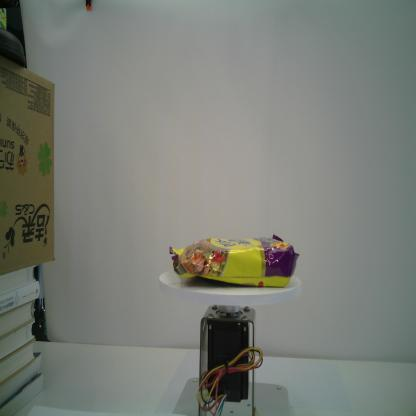Instant Noodles: (168, 233, 301, 289)
